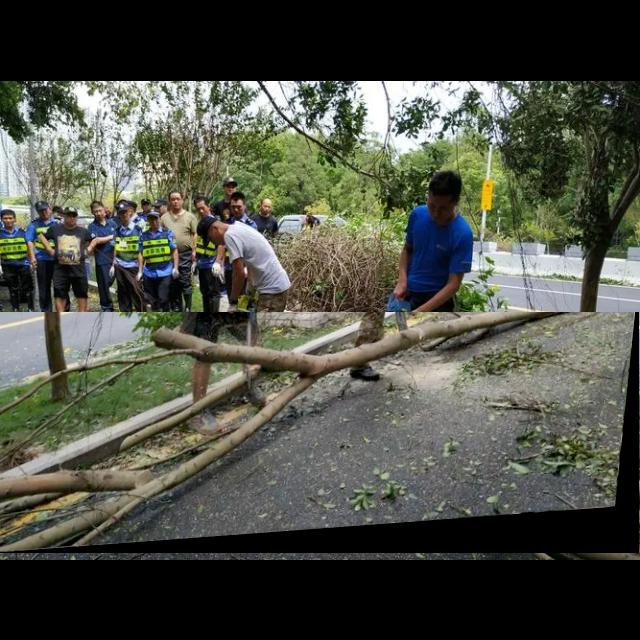Fallen Tree: (0, 312, 640, 554)
